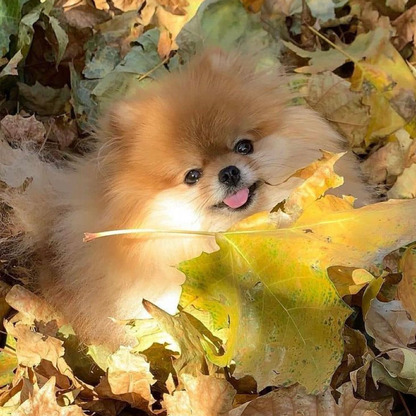Pomeranian: (38, 43, 365, 289)
